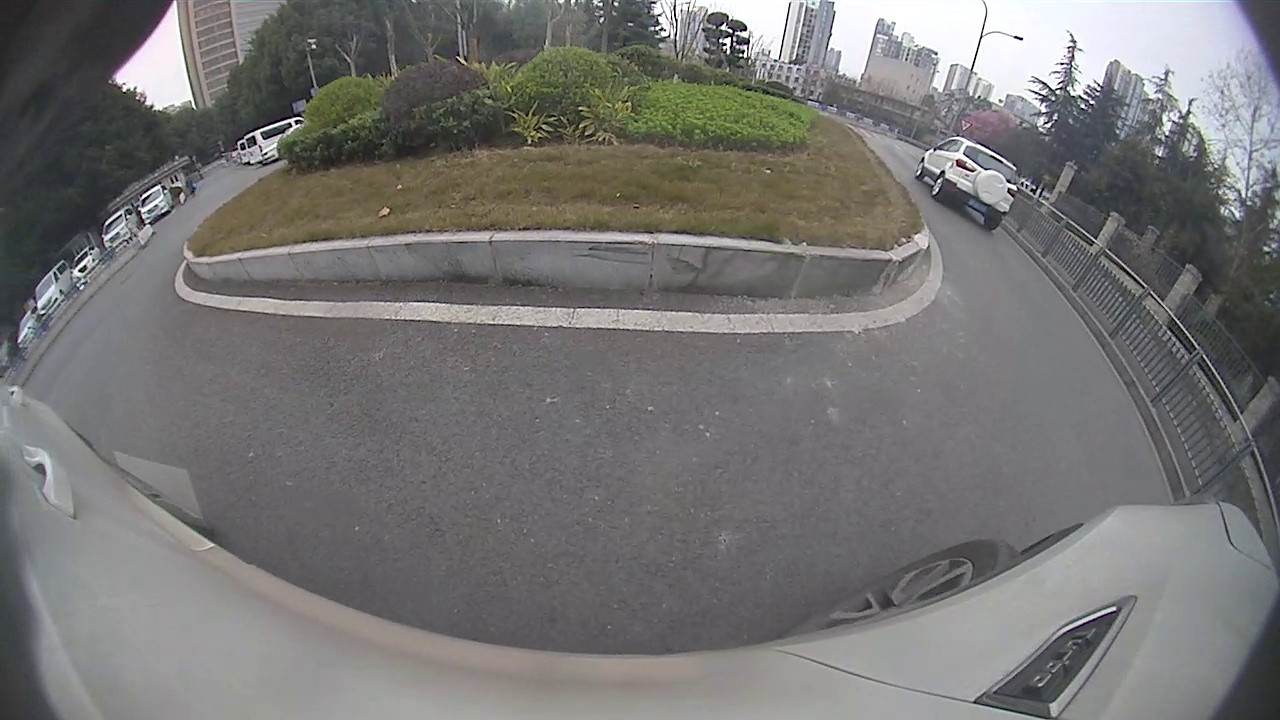car: (915, 138, 1014, 230), (139, 187, 172, 224)
front: (915, 159, 926, 179)
rear: (929, 171, 947, 198)
